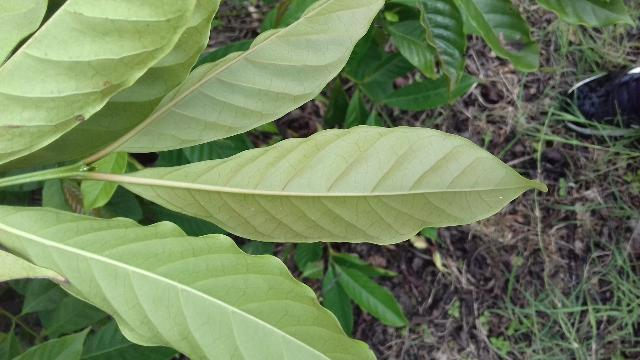healthy: (121, 119, 552, 247)
